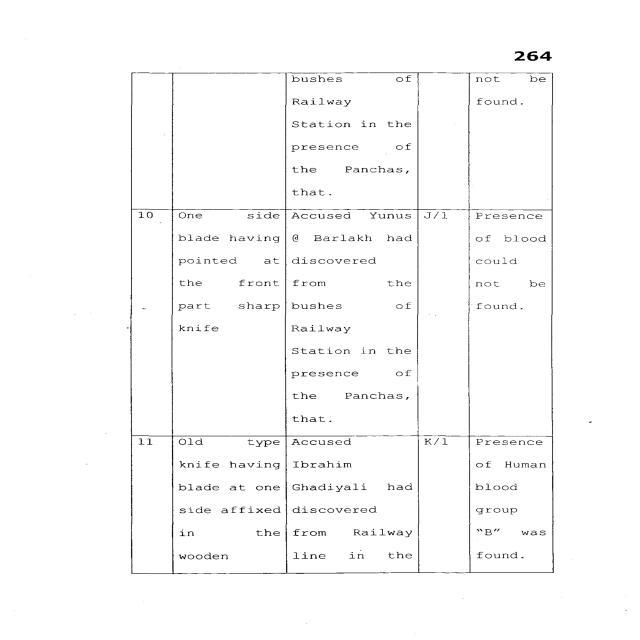page-number: (428, 2, 635, 68)
